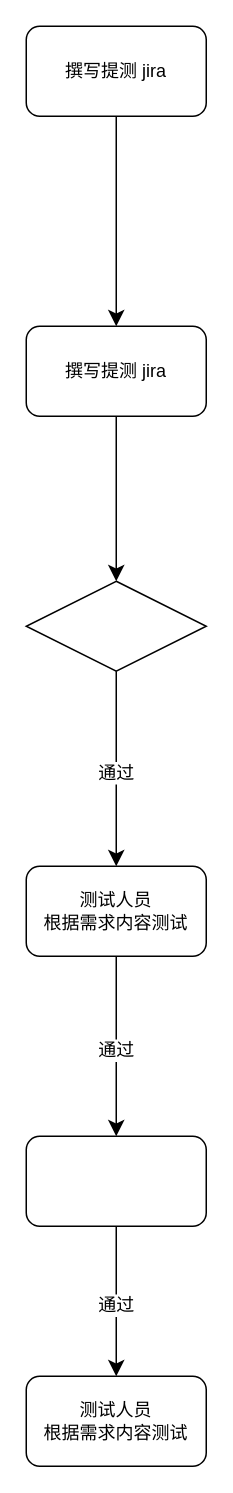
Some shapes in this 233 by 1493 pixel diagram are drawn without their labels. Here are the shapes that lost their labels. From the top down, the centre of each, then its label:
At point 115,625: "研发负责人审核".
At point 115,1180: "测试通过".
